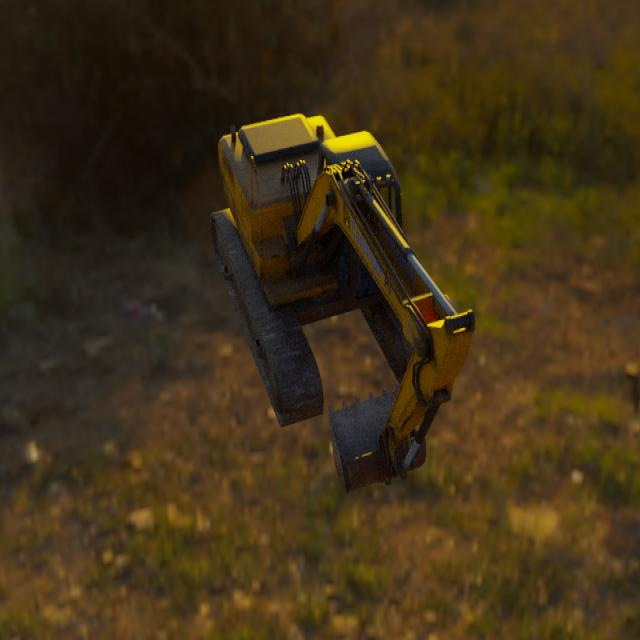excavator: (209, 114, 475, 494)
